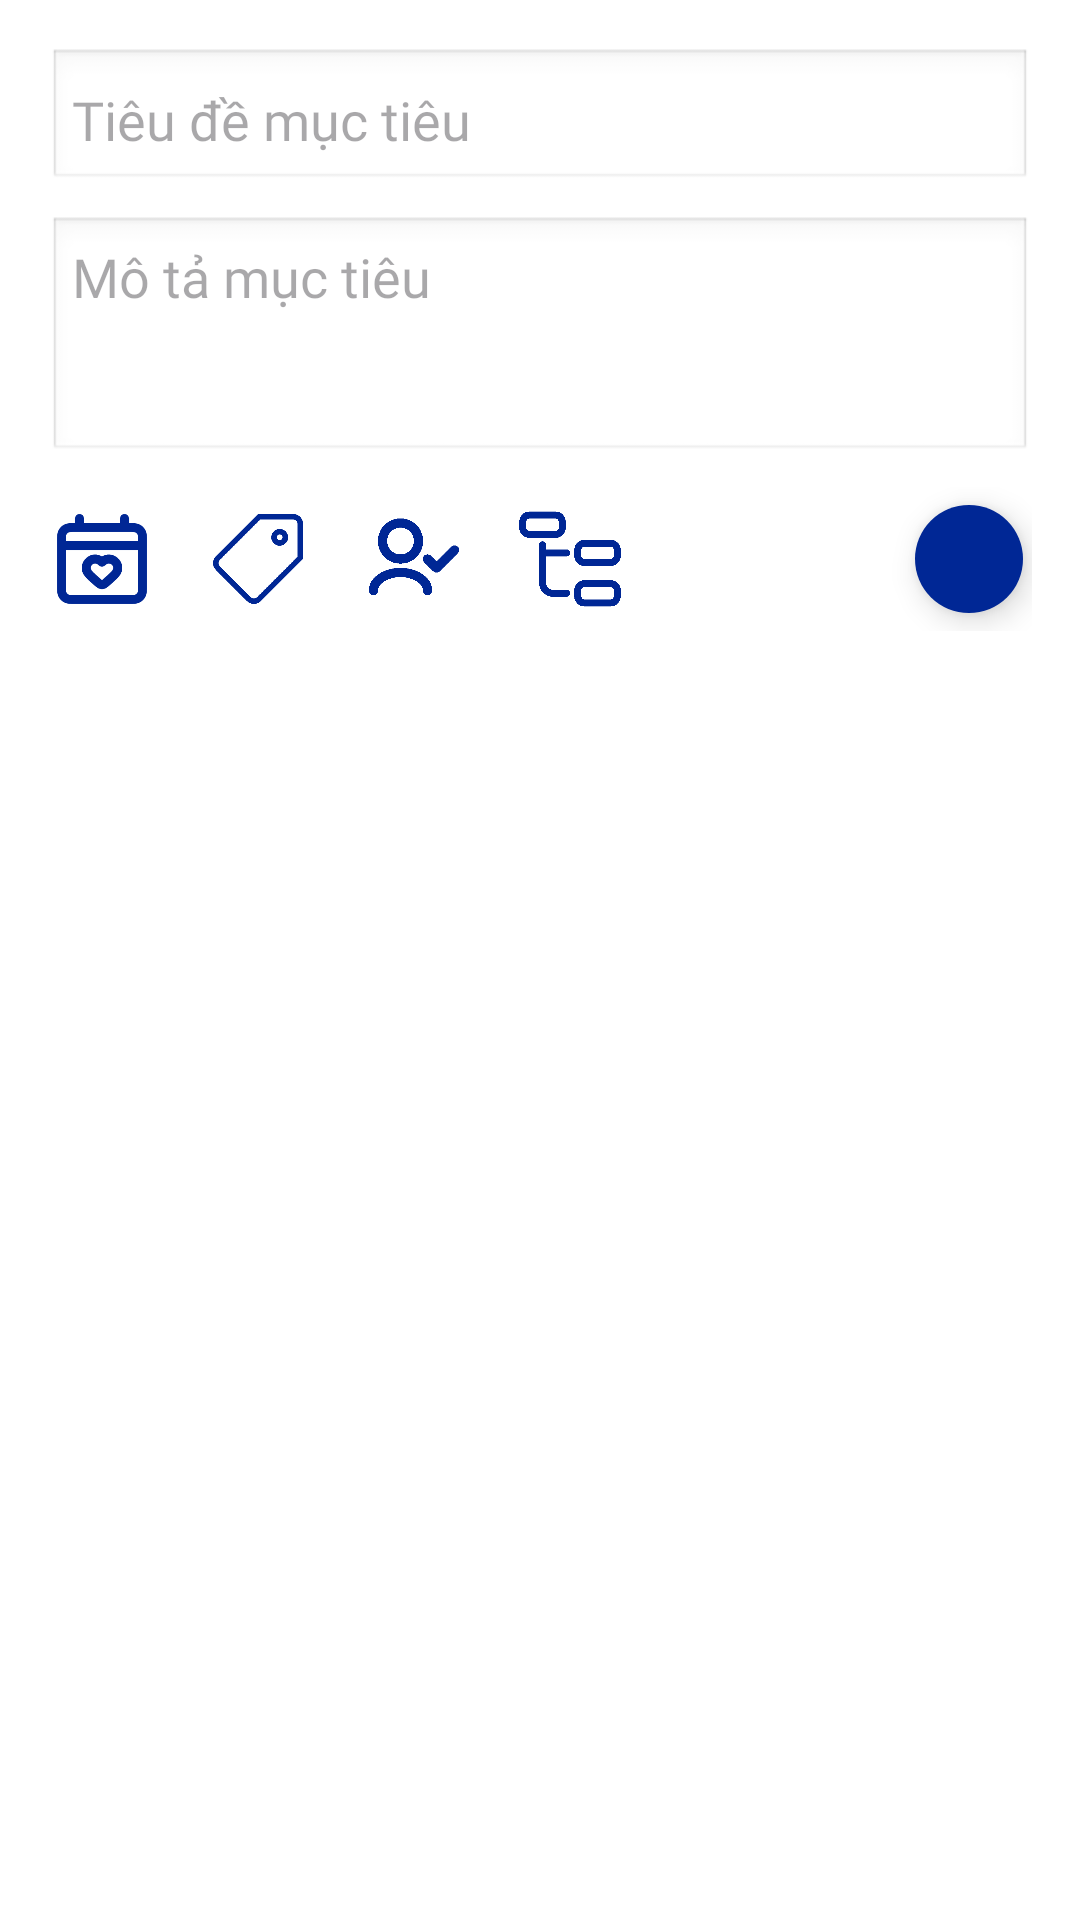

Point at icon controls on the screen. Image size 1080*1920, points as point (x, y).
login calendar: point (102, 559)
todolist add task assignment: point (414, 556)
todolist add task category: point (258, 559)
todolist add task subtask: point (570, 559)
